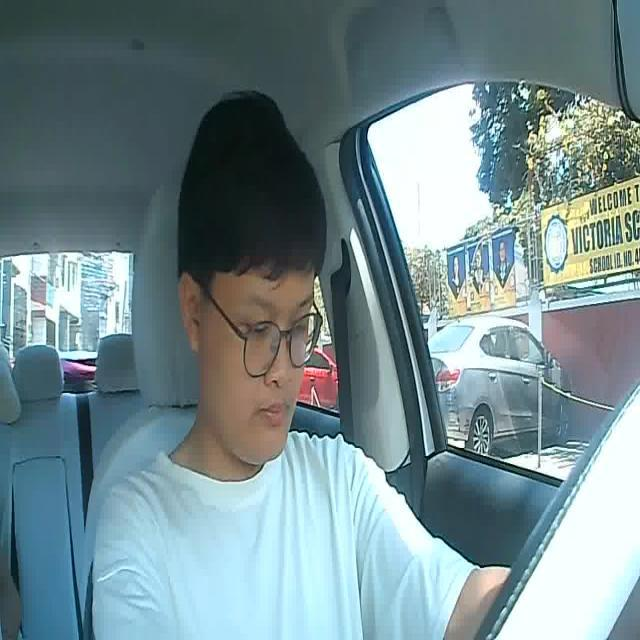Eye-Open: (246, 318, 274, 343), (285, 315, 313, 340)
Inattentive: (157, 89, 339, 469)
Normal: (261, 400, 294, 426)
